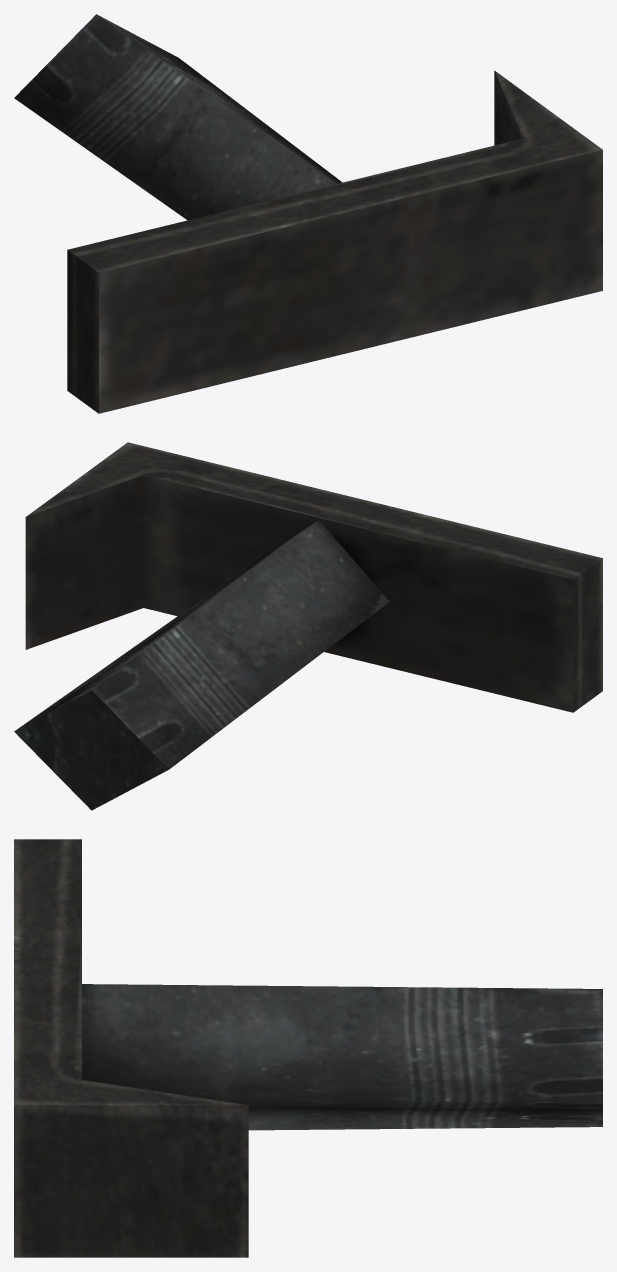
File: t6_attach_grip_vector_world_LOD2.obj
3 views of the same model, one above another, from view 1: azimuth 30°, elevation 25°; view 2: azimuth 150°, elevation 25°; view 3: azimuth 270°, elevation 25° (orthographic). The views are drawn at different scales.
Parts seen in each view (by area): view 1: mtl_t6_attach_grip_vector; view 2: mtl_t6_attach_grip_vector; view 3: mtl_t6_attach_grip_vector.
Part boxes in pixels (x1,y1,x2,y2): mtl_t6_attach_grip_vector: (14,14,602,413); mtl_t6_attach_grip_vector: (14,442,602,810); mtl_t6_attach_grip_vector: (14,839,602,1257).
Bounding box in the file's own units: 9.59 × 2.56 × 8.98.
